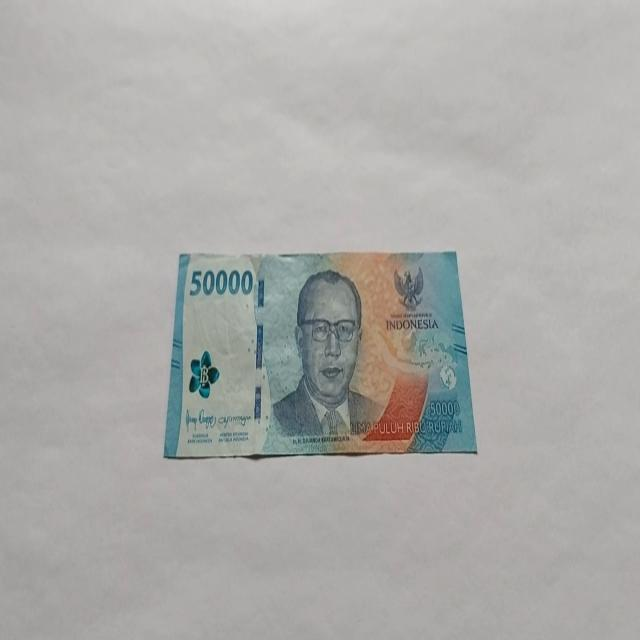lima puluh ribu rupiah: (162, 248, 478, 460), (270, 267, 382, 441)
